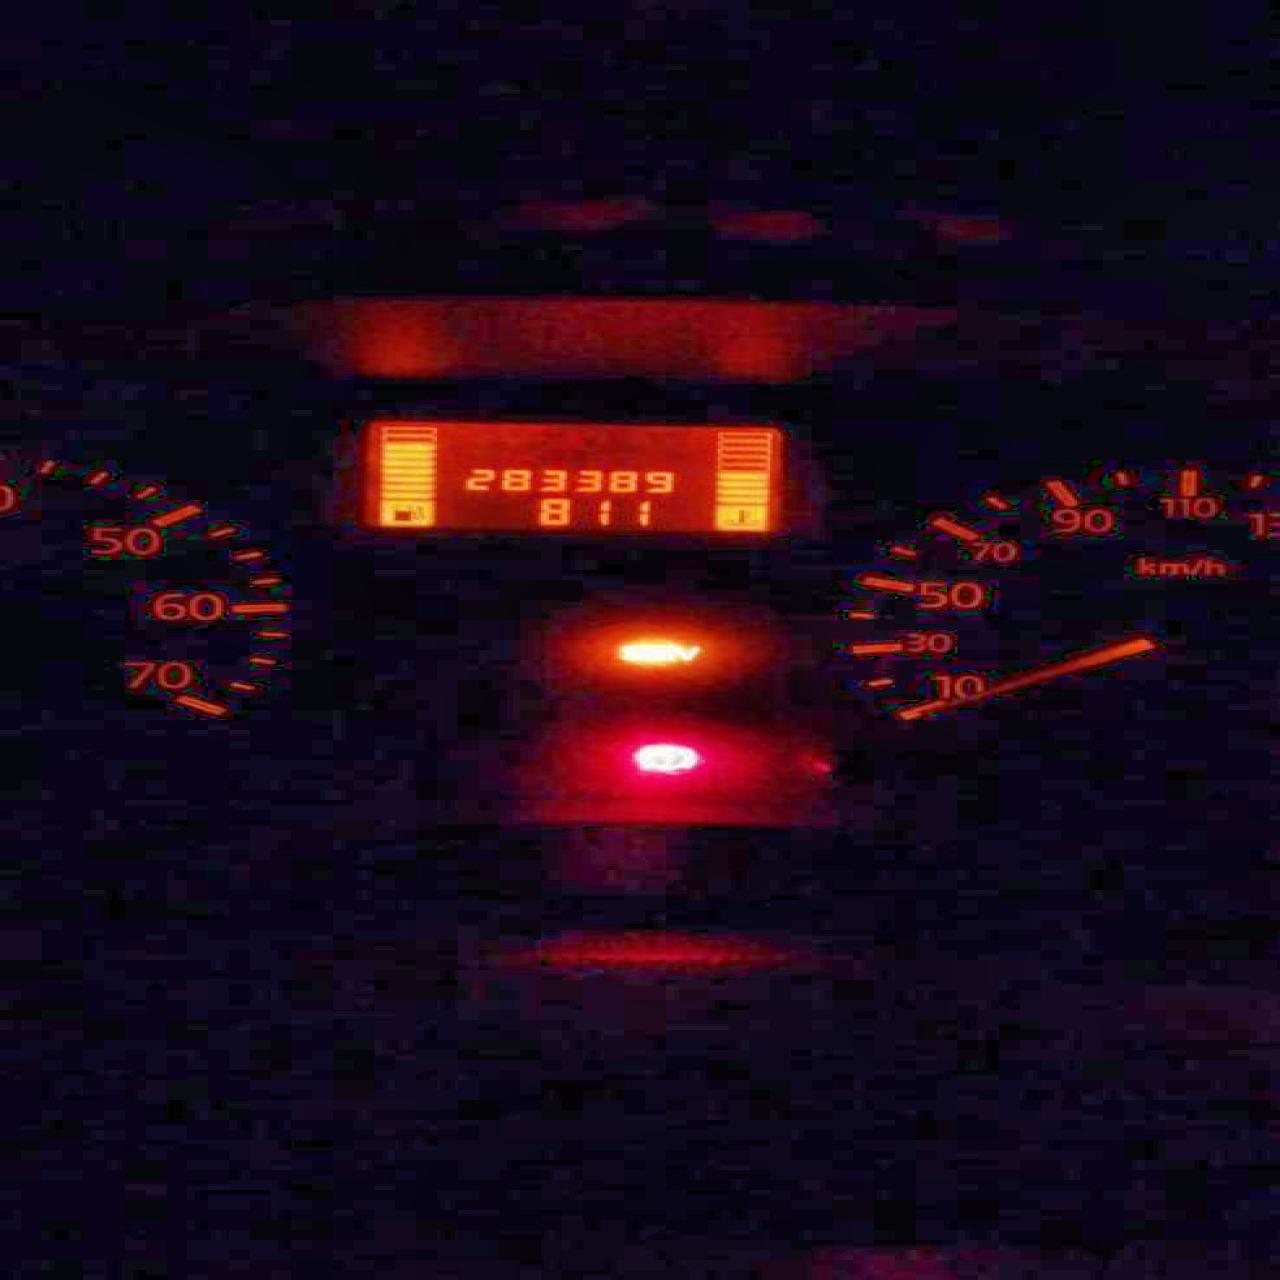1: (593, 497, 612, 527), (633, 497, 651, 526)
2: (463, 467, 493, 490)
3: (538, 468, 565, 491), (574, 468, 598, 491)
8: (536, 496, 567, 525), (606, 468, 635, 493), (499, 467, 529, 491)
9: (642, 469, 672, 492)
odometer: (354, 417, 791, 537)
